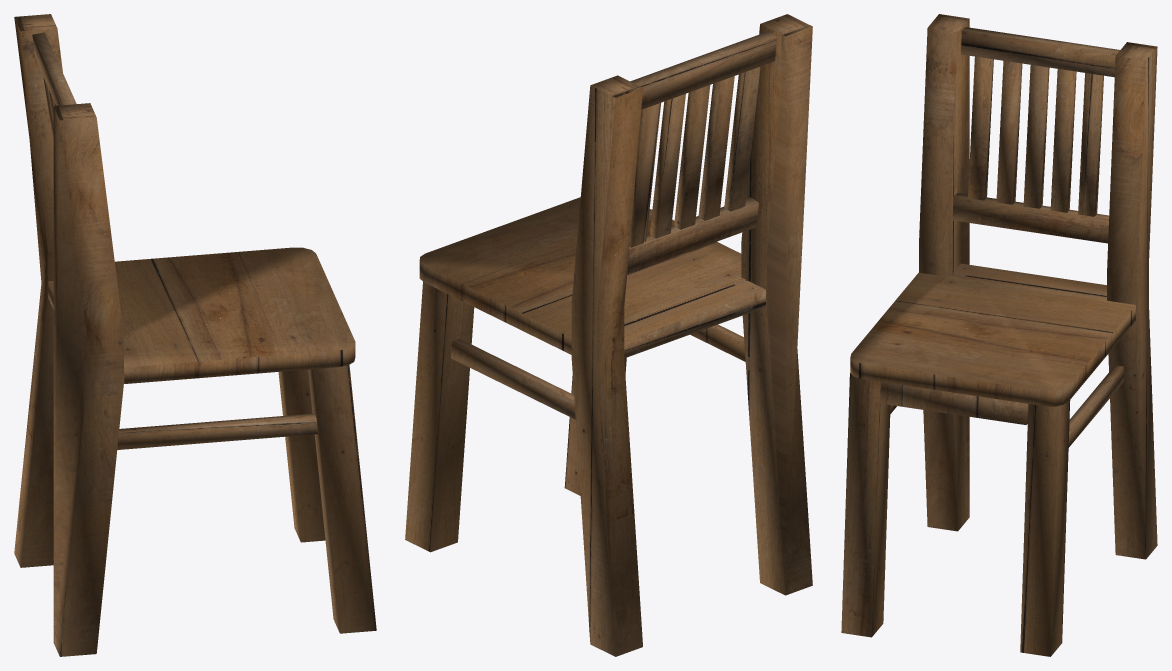
File: chair.fbx
The picture shows the model from 3 angles, left to right: view 1: azimuth 30°, elevation 25°; view 2: azimuth 150°, elevation 25°; view 3: azimuth 270°, elevation 25°; orthographic projection. The views are drawn at different scales.
Visible parts, largest first — view 1: Chair; view 2: Chair; view 3: Chair.
Boxes of the visible parts, x1,y1,x2,y2 form: Chair: [14, 14, 376, 656]; Chair: [405, 14, 812, 656]; Chair: [841, 14, 1157, 656].
Bounding box in the file's own units: 1.31 × 2.02 × 1.16.
Materials: 1 (1 with a texture image).
